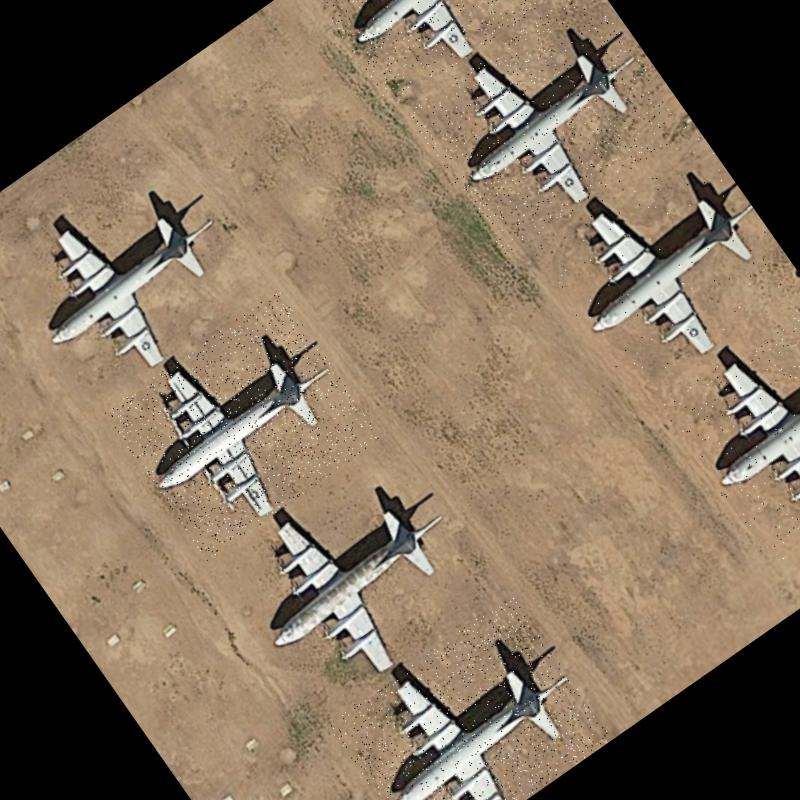A9: (204, 435, 504, 724), (104, 289, 384, 562), (524, 125, 800, 401), (405, 0, 689, 257), (0, 143, 266, 414), (326, 594, 612, 800), (659, 297, 800, 567), (302, 0, 568, 110)
